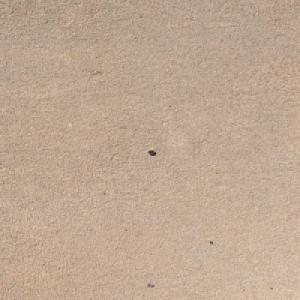Nut: (147, 149, 155, 154)
